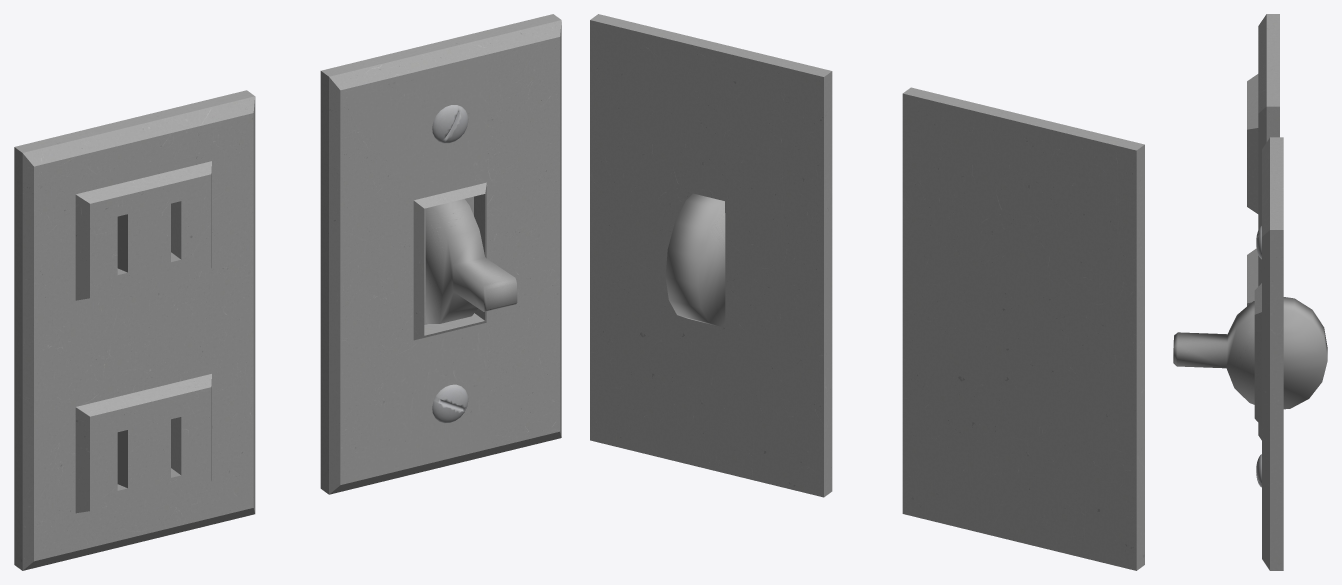
Rendered from light_switch_and_wall_socket.glb.
3 renders of one model, left to right at view 1: azimuth 30°, elevation 25°; view 2: azimuth 150°, elevation 25°; view 3: azimuth 270°, elevation 25°, orthographic. The views are drawn at different scales.
Parts seen in each view (by area): view 1: Wall socket_0, Light Switch_2, Cylinder_1, Light Switch.001_3, Light Switch.003_5; view 2: Wall socket_0, Light Switch_2, Cylinder_1; view 3: Light Switch_2, Cylinder_1, Wall socket_0.
Part boxes in pixels (x1,y1,x2,y2): Wall socket_0: [14, 90, 255, 570]; Light Switch_2: [320, 14, 561, 494]; Cylinder_1: [425, 199, 517, 323]; Light Switch.001_3: [432, 384, 468, 423]; Light Switch.003_5: [432, 105, 468, 143]; Wall socket_0: [902, 87, 1144, 570]; Light Switch_2: [590, 14, 832, 497]; Cylinder_1: [665, 193, 725, 326]; Light Switch_2: [1254, 137, 1283, 570]; Cylinder_1: [1173, 297, 1327, 409]; Wall socket_0: [1247, 14, 1279, 440].
Bounding box in the file's own units: 0.1706 × 0.1261 × 0.0517.
Materials: 2 (2 with a texture image).
